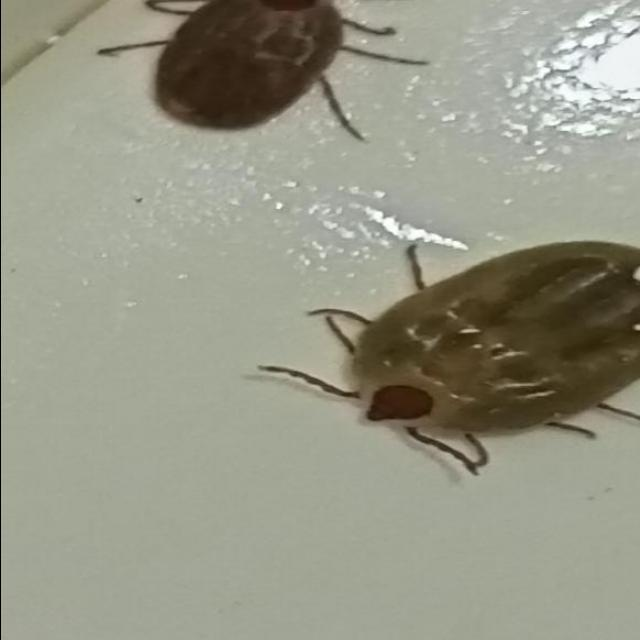Rhipicephalus Sanguineus-F-Fed: (262, 240, 640, 485), (94, 0, 429, 141)
